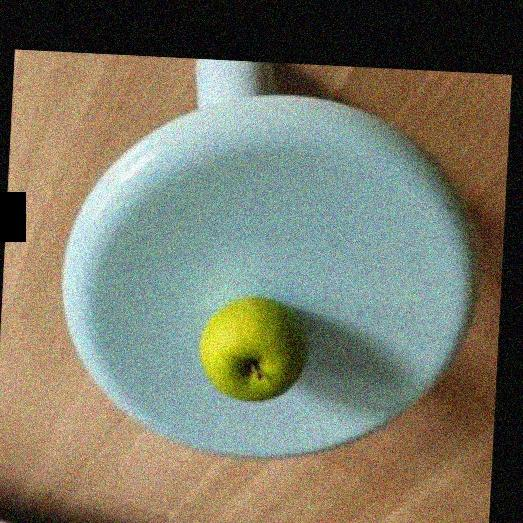green apple: (198, 301, 307, 404)
